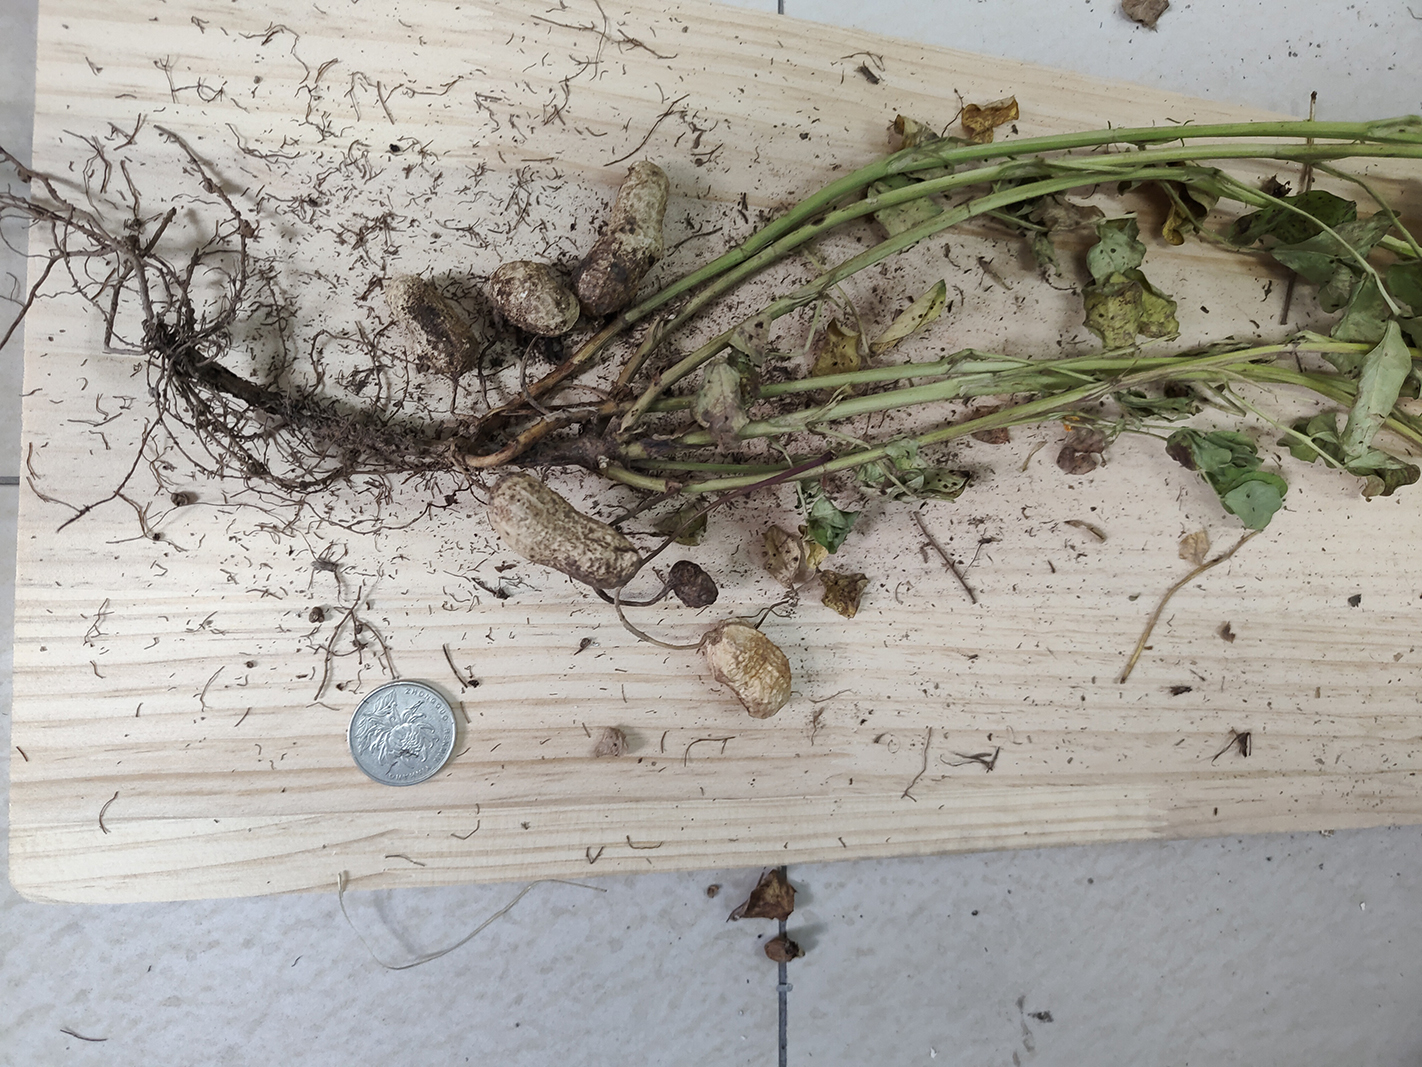h: (487, 473, 644, 588), (578, 161, 670, 325), (701, 619, 792, 718), (491, 260, 579, 334)
l: (388, 275, 468, 368), (670, 562, 722, 609)
